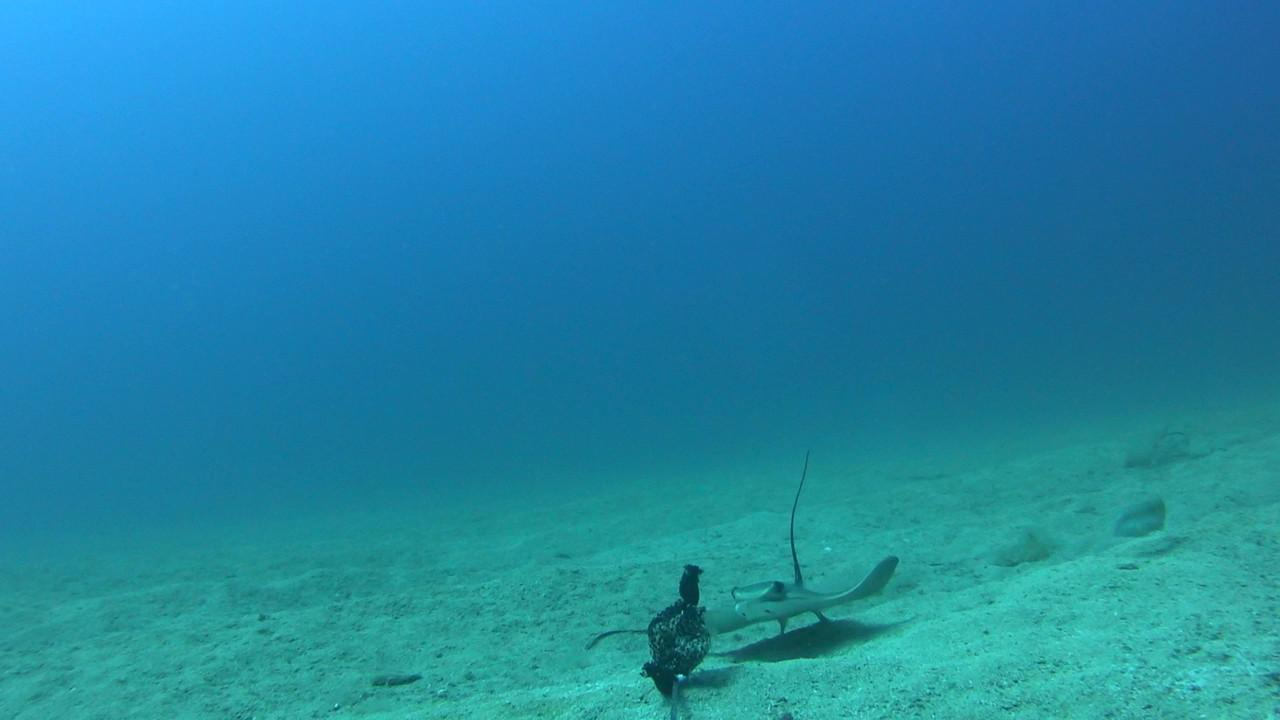myliobatis: (661, 465, 918, 658)
raor: (1110, 494, 1168, 540)
